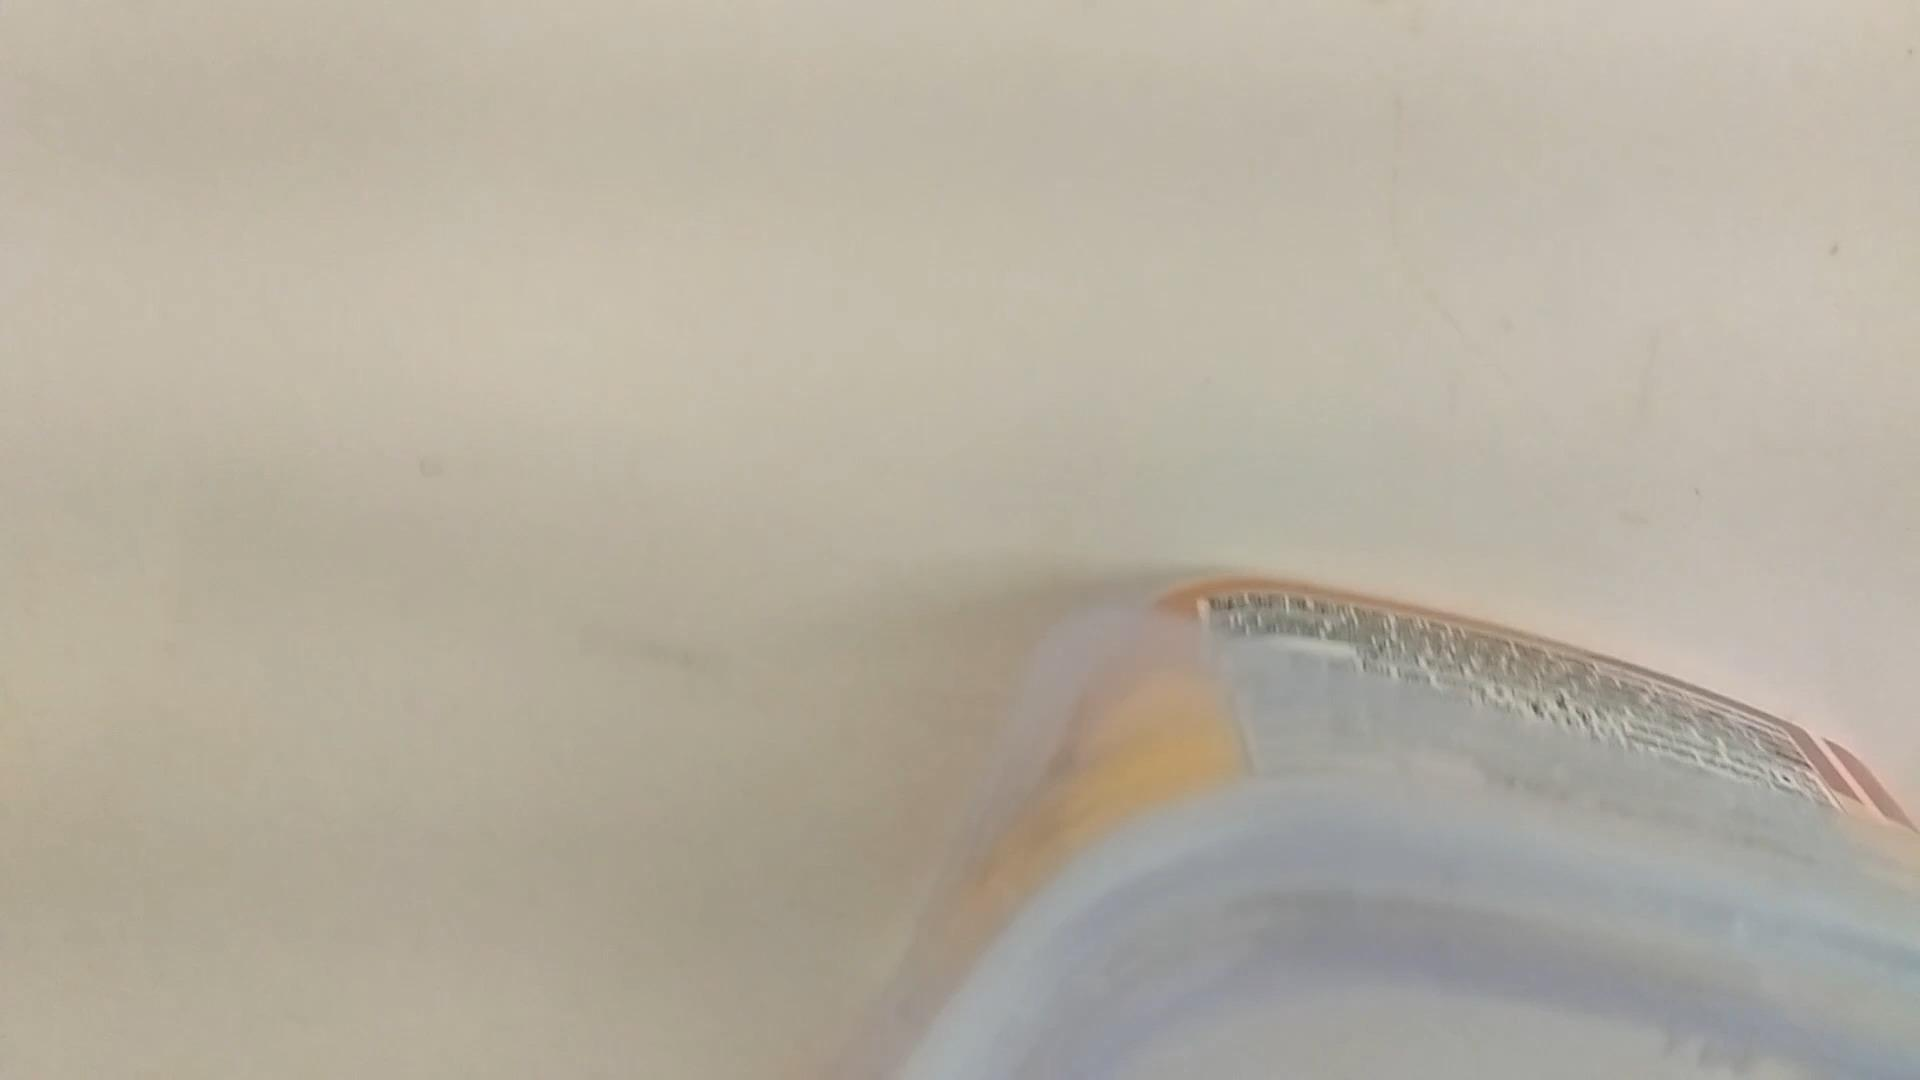butter: (815, 575, 1920, 1080)
